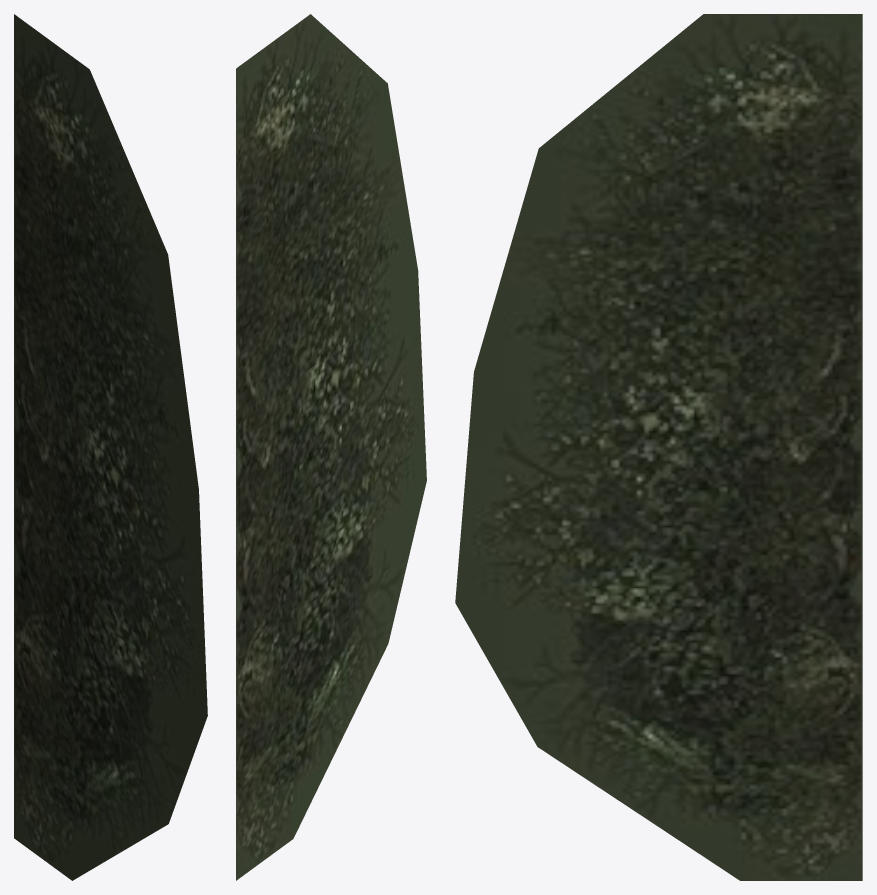
File: shadow_caen_hedge_wall_2.glb
The picture shows the model from 3 angles, left to right: view 1: azimuth 30°, elevation 25°; view 2: azimuth 150°, elevation 25°; view 3: azimuth 270°, elevation 25°; orthographic projection. The views are drawn at different scales.
Size of the model in its own units: 4.77e-05 by 387 by 165.
Materials: 1 (1 with a texture image).
